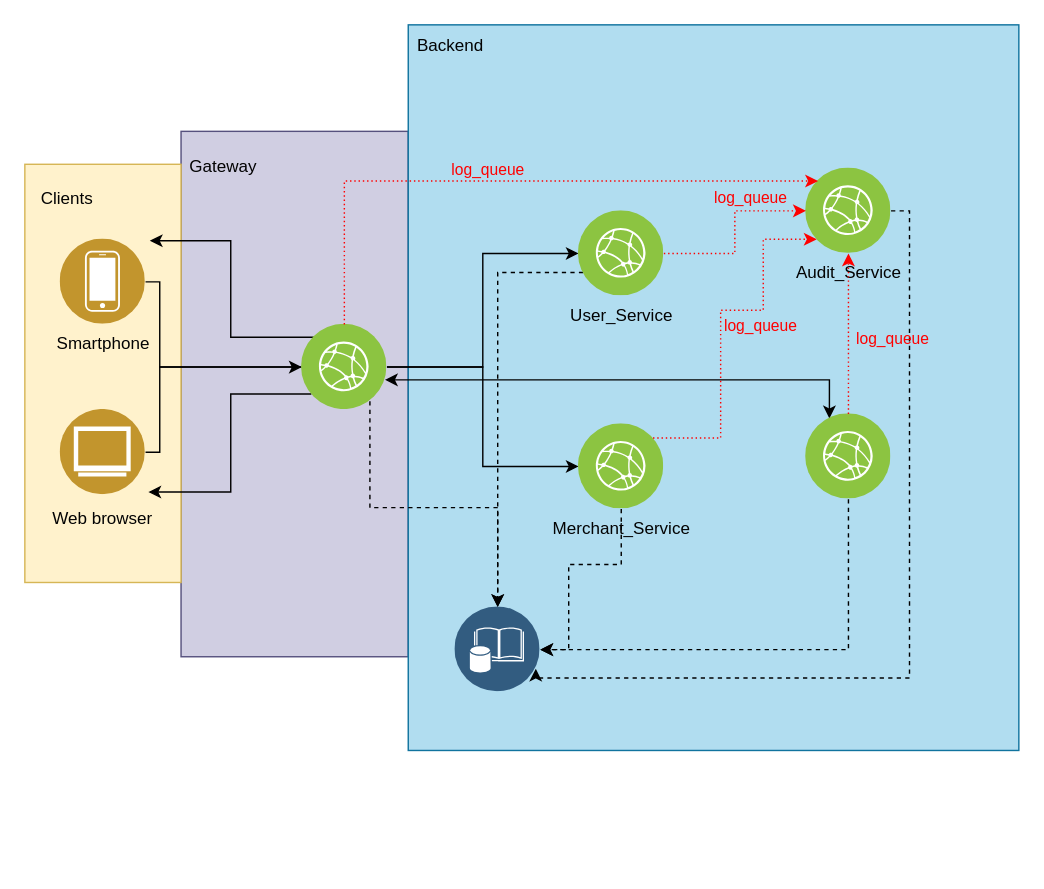
The diagram is 1044 pixels wide and 889 high, and some of its shapes have lost their labels. Here are the shapes that lost their labels. From the top down, the box of each, then its label:
(301, 324, 386, 409): Auth_Service
(805, 413, 890, 498): Prenotation_Service
(454, 606, 540, 692): CEPOSTO_DB
